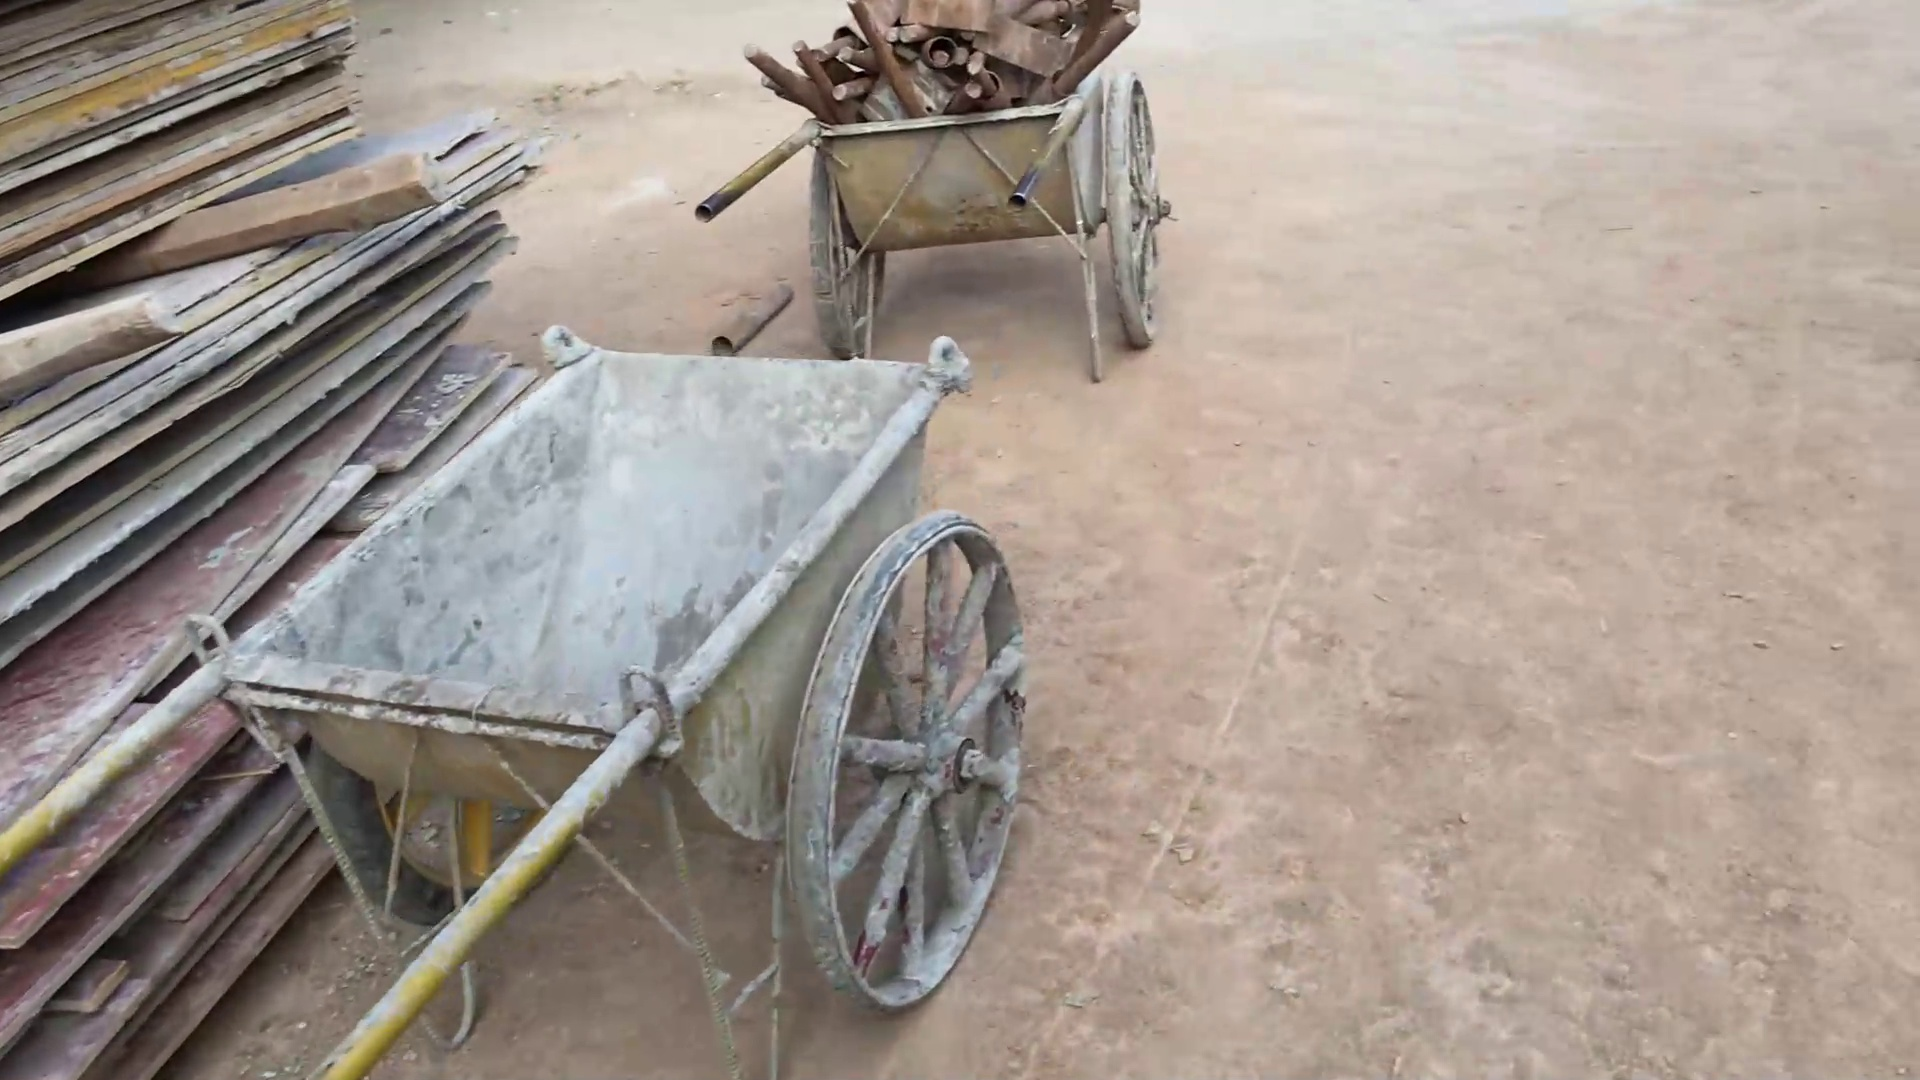board: (3, 1, 543, 1077)
handcart: (61, 301, 1048, 1080), (684, 38, 1176, 393)
